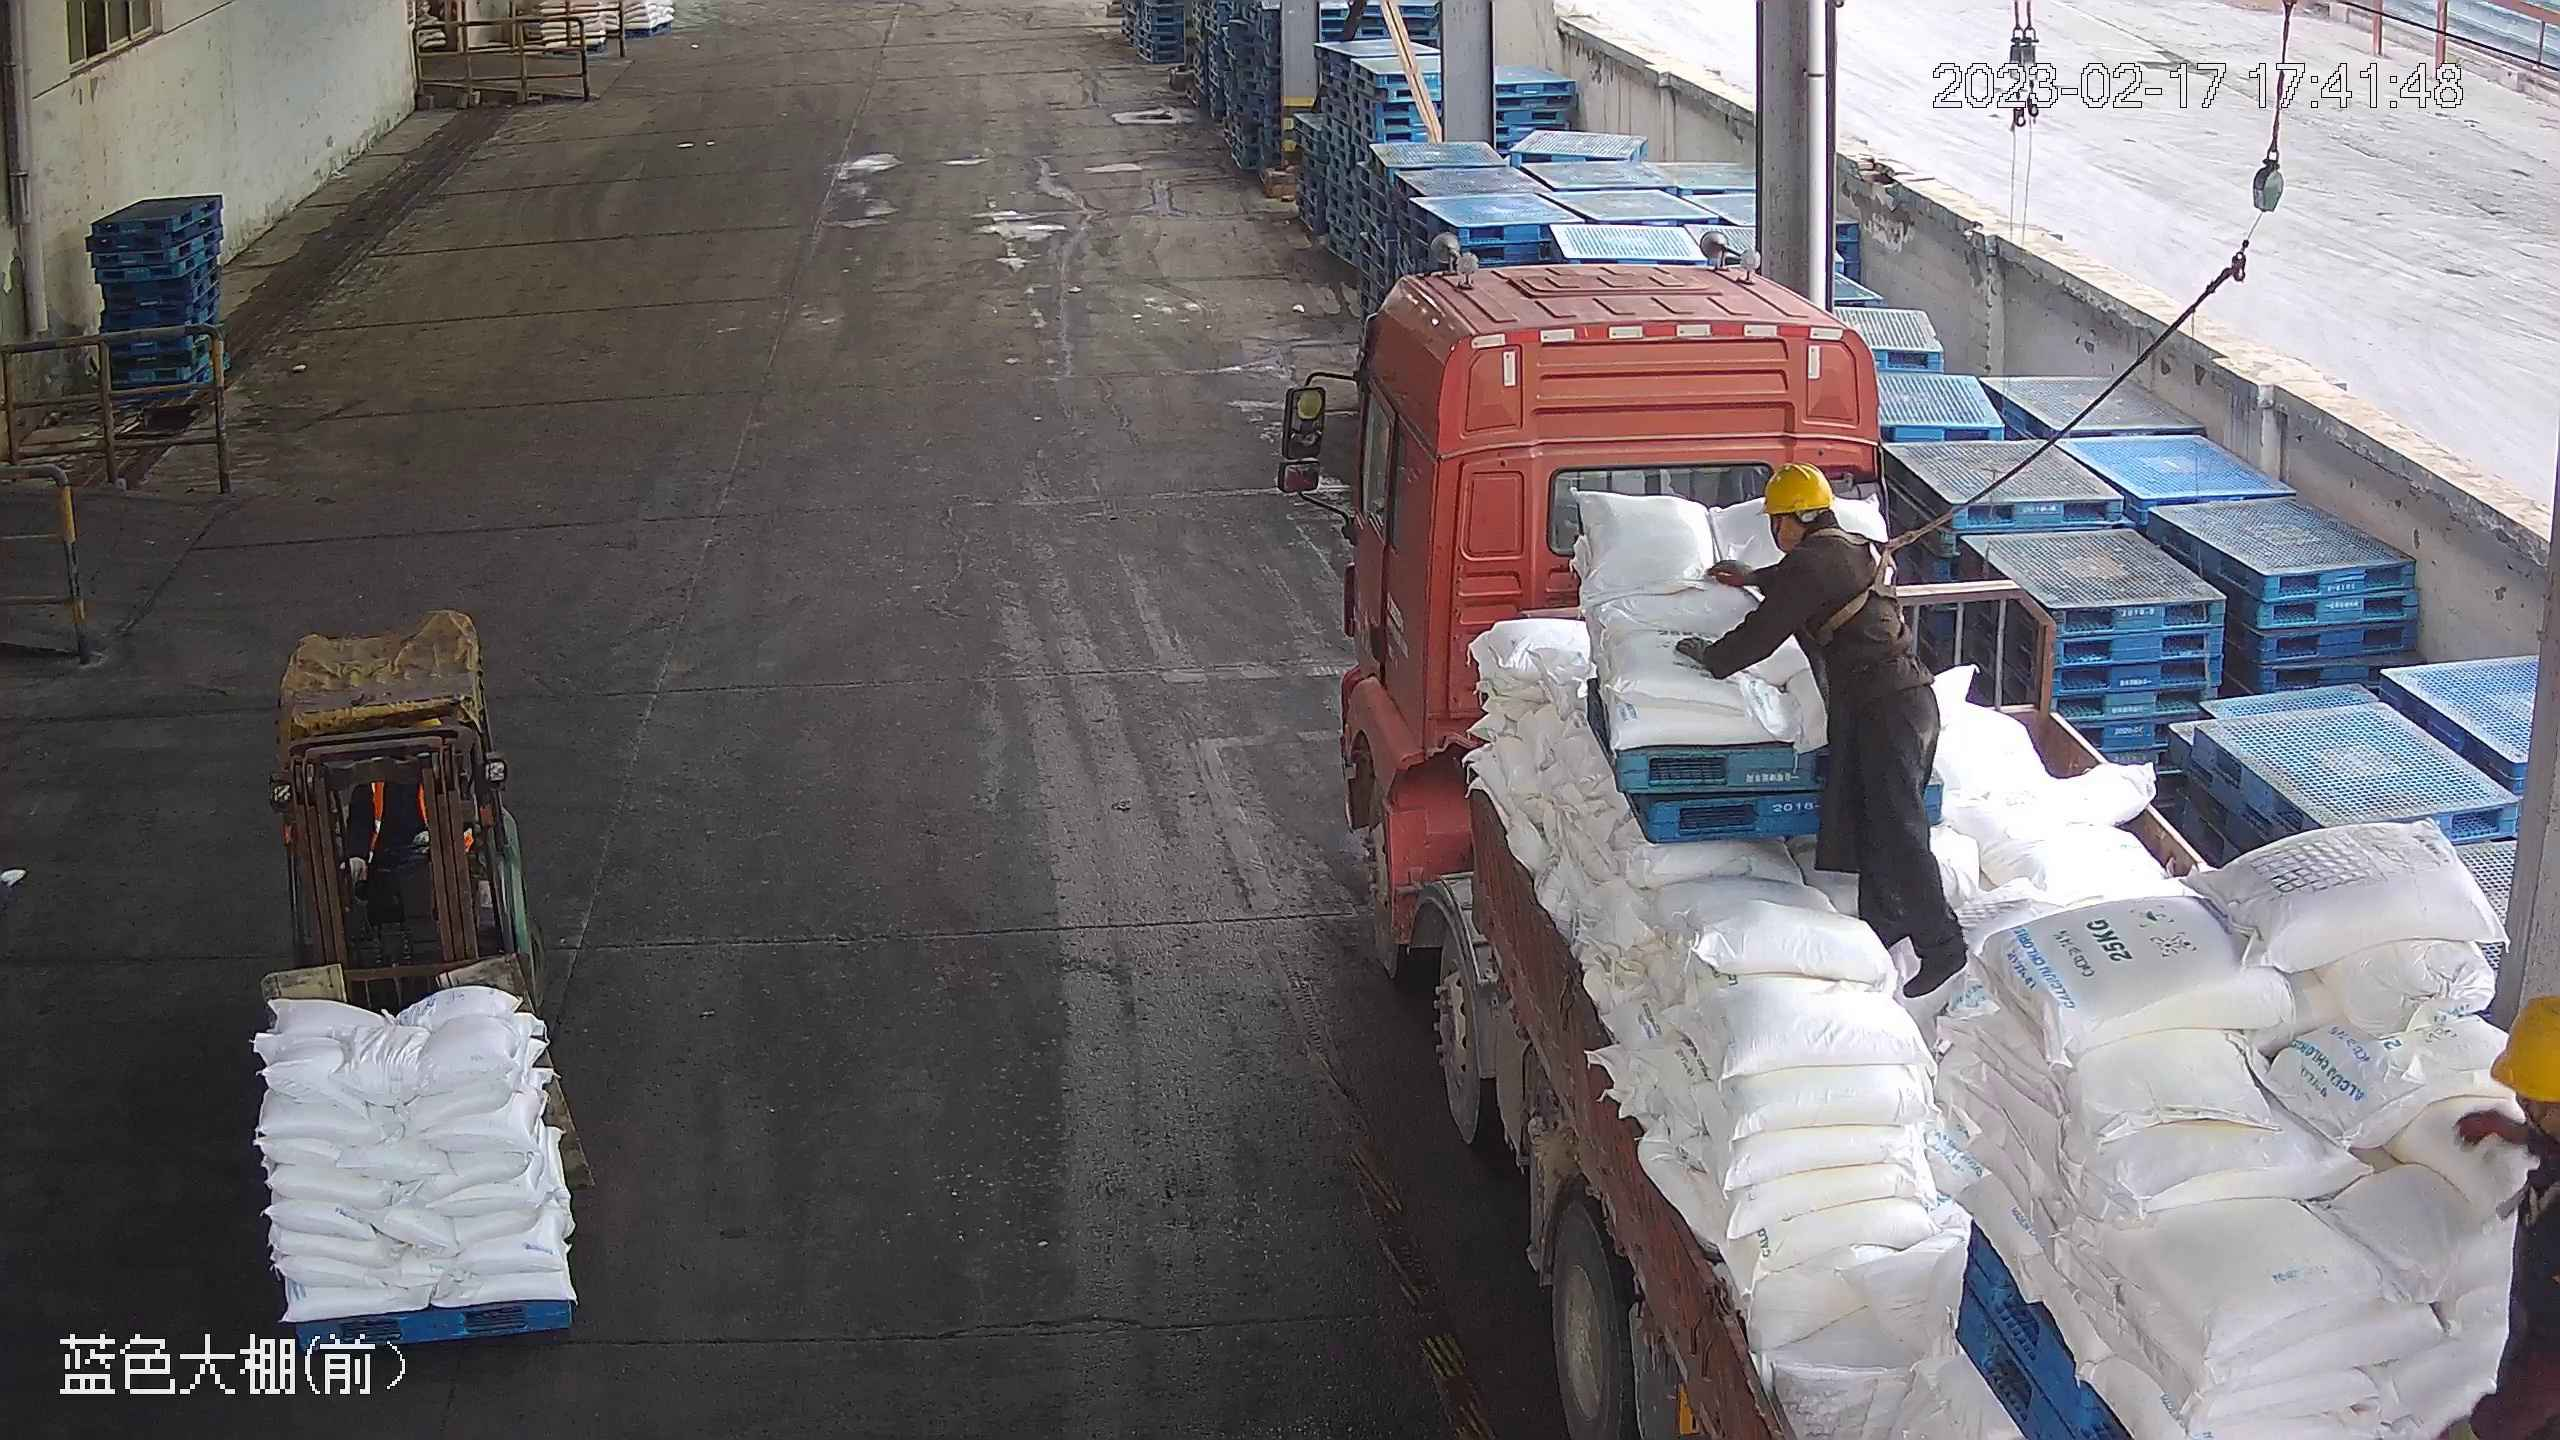belt: (1804, 517, 1913, 647)
head: (2442, 992, 2560, 1256), (1740, 461, 1889, 625)
helmet: (2484, 990, 2560, 1104), (1757, 459, 1837, 516)
people: (1668, 457, 1971, 1000), (2436, 988, 2560, 1425)
truck: (1258, 243, 2560, 1428)
